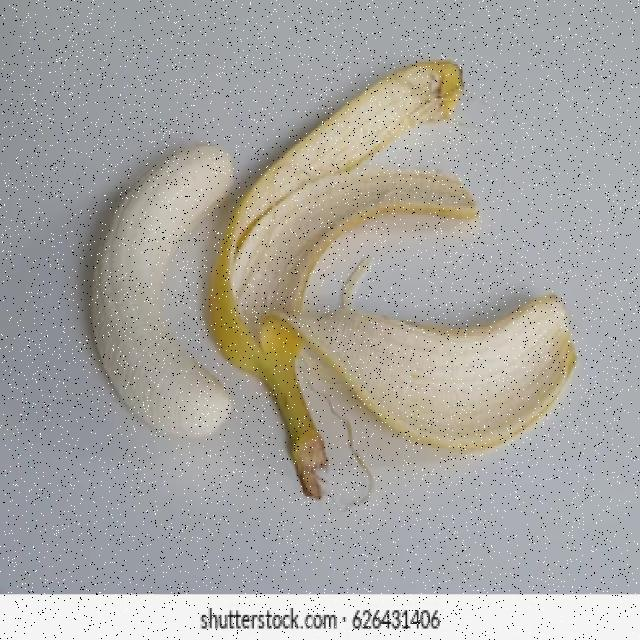Banana: (3, 24, 241, 550)
